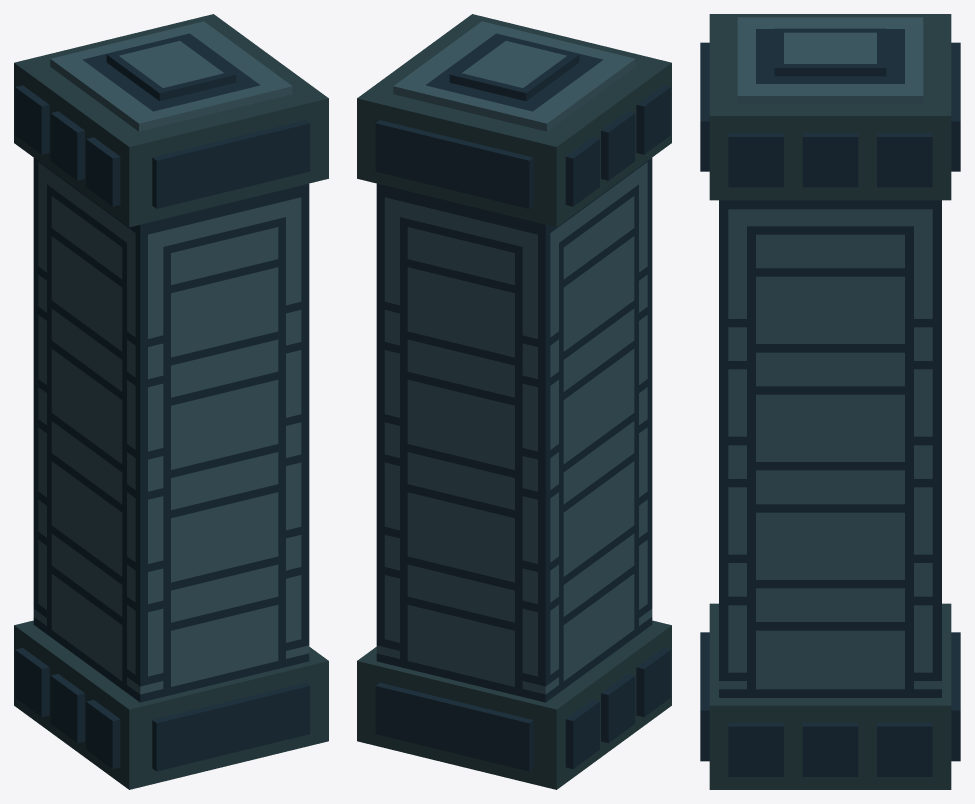
File: pillar_4.fbx
3 renders of one model, left to right at view 1: azimuth 30°, elevation 25°; view 2: azimuth 150°, elevation 25°; view 3: azimuth 270°, elevation 25°, orthographic. The views are drawn at different scales.
Bounding box in the file's own units: 28 × 83 × 28.
